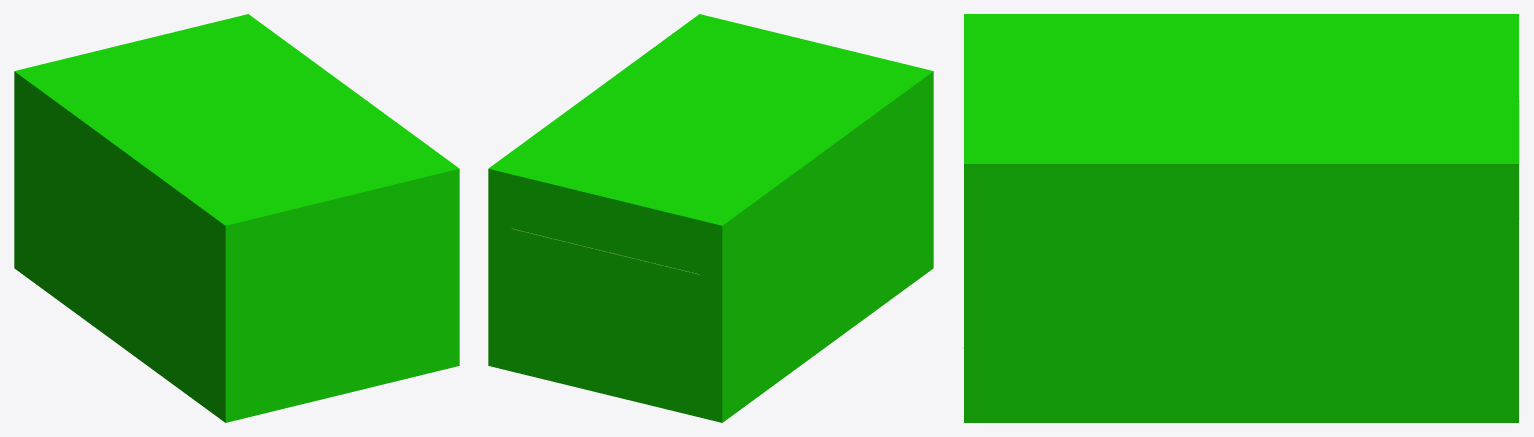
The picture shows the model from 3 angles, left to right: view 1: azimuth 30°, elevation 25°; view 2: azimuth 150°, elevation 25°; view 3: azimuth 270°, elevation 25°; orthographic projection. The views are drawn at different scales.
Parts seen in each view (by area): view 1: Cube.002; view 2: Cube.002; view 3: Cube.002.
Part boxes in pixels (box(x1,y1,x2,y2)): Cube.002: box(14, 14, 459, 422); Cube.002: box(488, 14, 933, 422); Cube.002: box(964, 14, 1518, 422).
Size of the model in its own units: 2.49 by 2 by 3.9.
